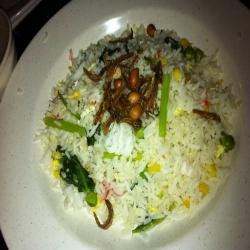rice: (34, 24, 246, 234)
salad: (48, 146, 112, 219)
